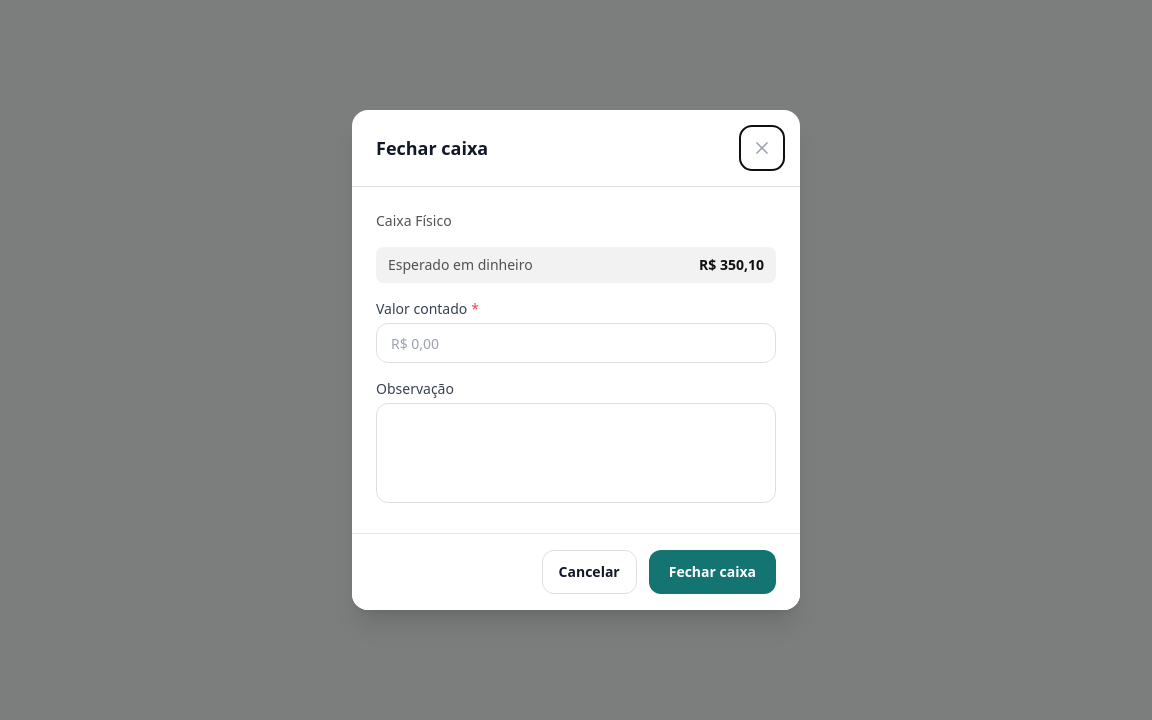
CloseCashSessionModal › fecha o caixa atual com o valor contado e a observação
The image size is (1152, 720).
In the field labelled "Valor contado*": (576, 343) [376,323,776,363], type "35000"
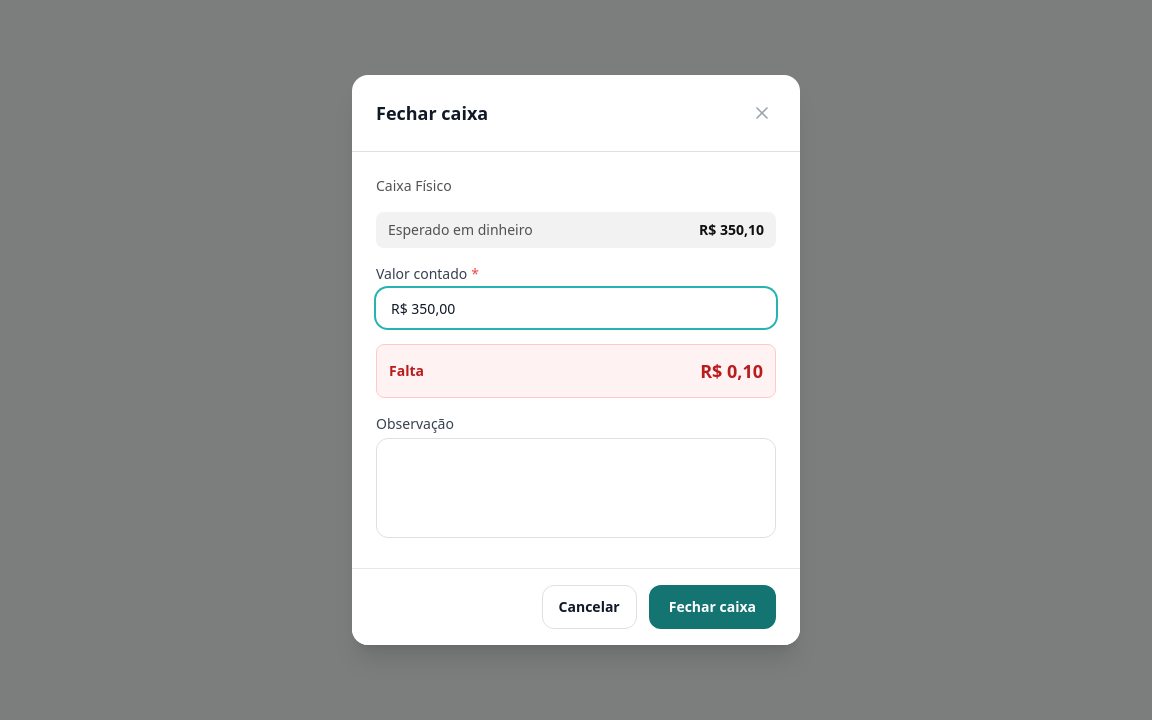
In the text box labelled "Observação": (576, 488) [376,438,776,538], type "Faltou troco"
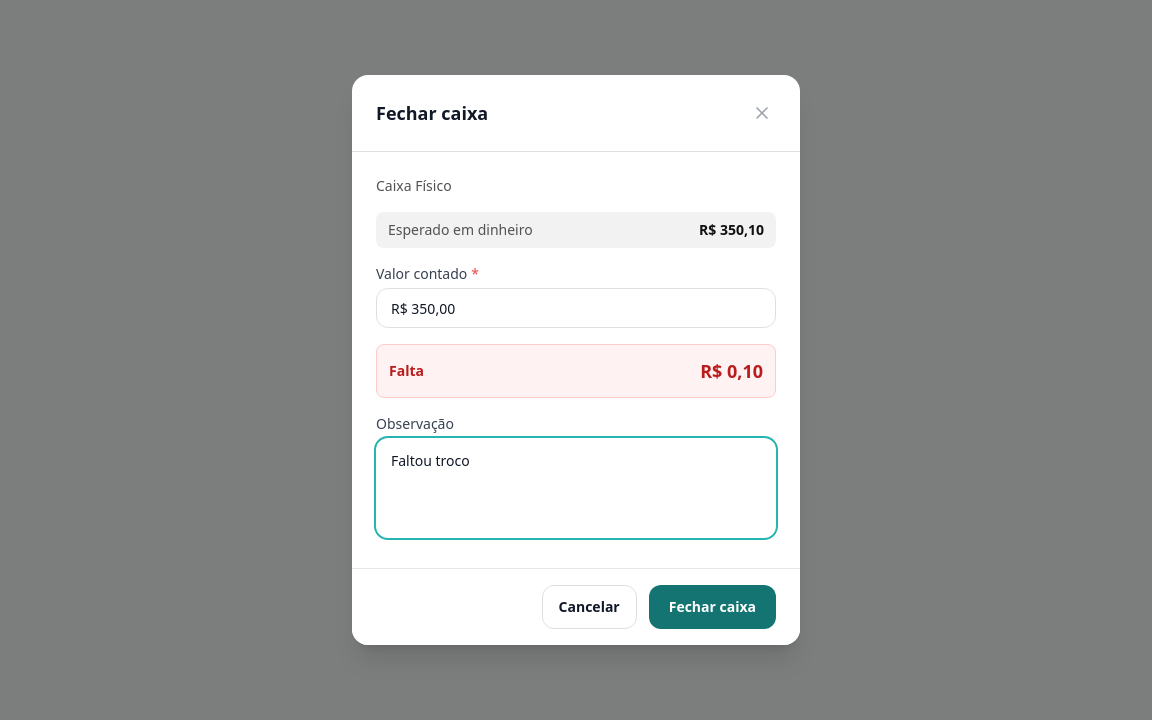
Click the button "Fechar caixa": (712, 607) [649,585,776,629]
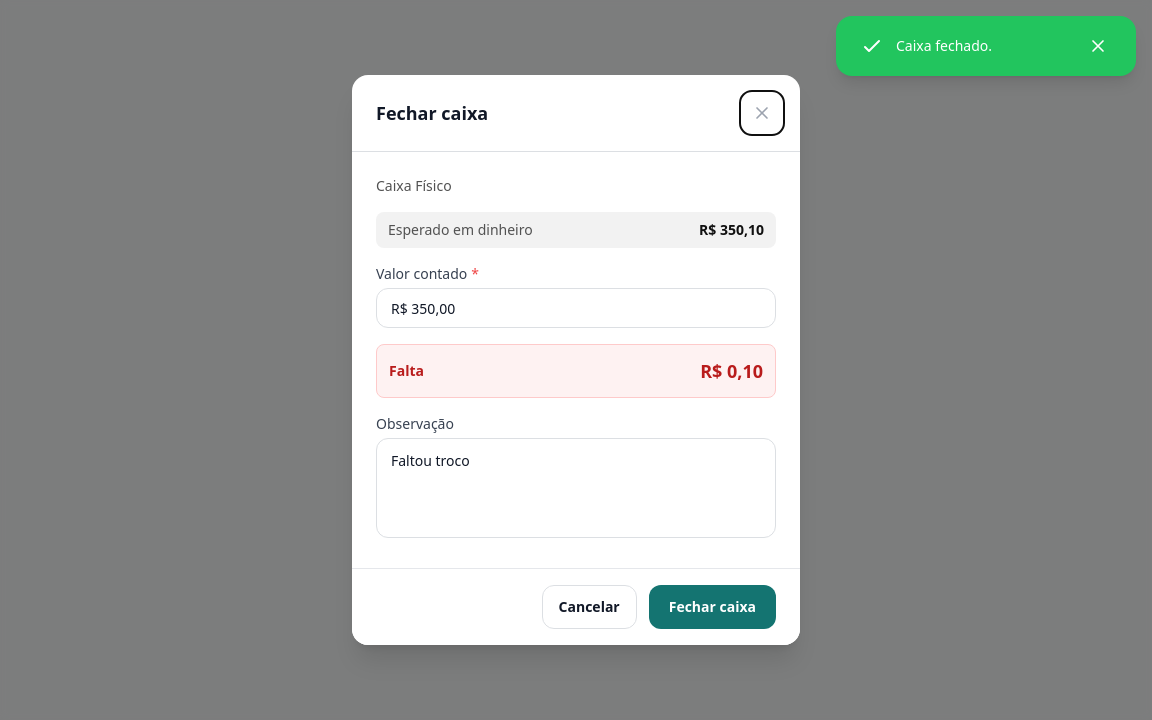
Check: the text "Caixa fechado." is shown, box [896,36,992,55]
